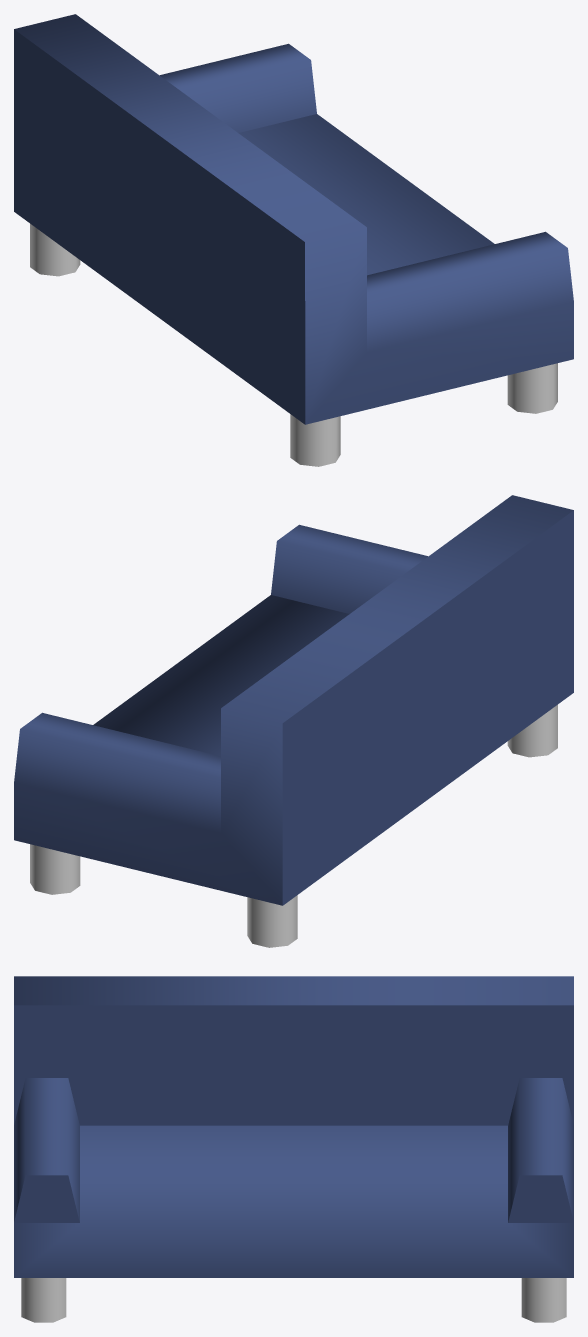
File: диван.fbx
3 views of the same model, one above another, from view 1: azimuth 30°, elevation 25°; view 2: azimuth 150°, elevation 25°; view 3: azimuth 270°, elevation 25° (orthographic). The views are drawn at different scales.
Parts seen in each view (by area): view 1: диван; view 2: диван; view 3: диван.
Part boxes in pixels (x1,y1,x2,y2): диван: (14, 14, 573, 466); диван: (14, 495, 573, 947); диван: (14, 976, 573, 1322).
Size of the model in its own units: 97 by 79.87 by 182.
